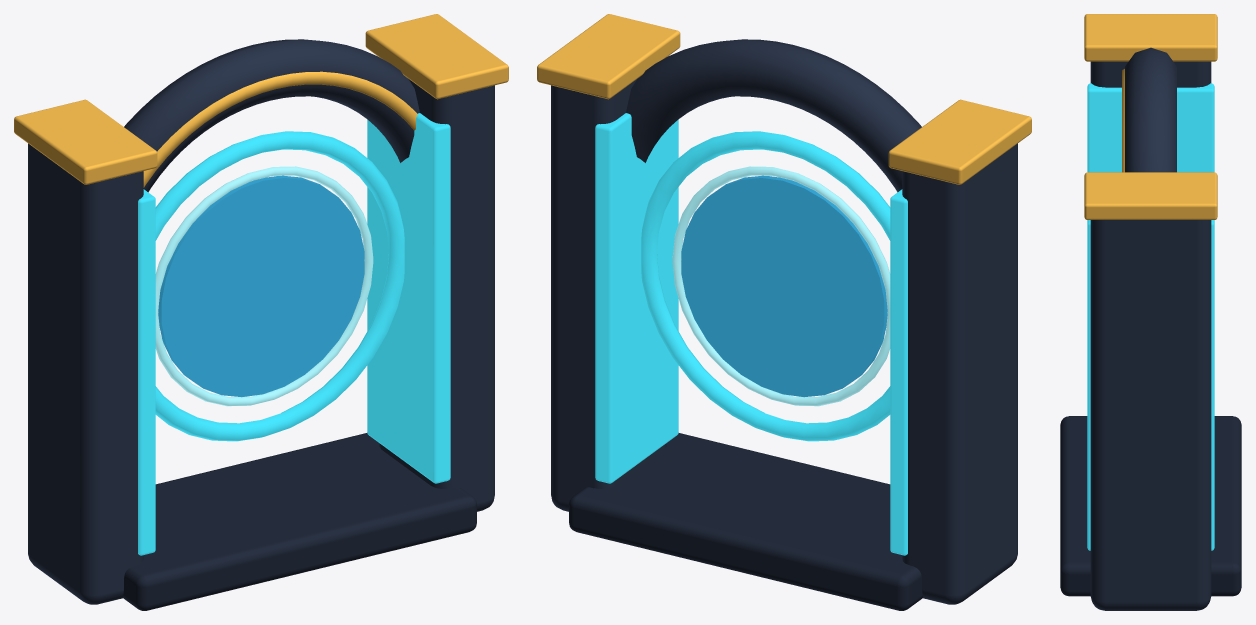
The model's file is entry_gate.glb.
3 renders of one model, left to right at view 1: azimuth 30°, elevation 25°; view 2: azimuth 150°, elevation 25°; view 3: azimuth 270°, elevation 25°, orthographic. The views are drawn at different scales.
Visible parts, largest first — view 1: rig_body, bob_glow, rig_glow, spin_glow, rig_metal; view 2: rig_body, bob_glow, rig_glow, spin_glow, rig_metal; view 3: rig_body, rig_metal, rig_glow.
Boxes of the visible parts, x1=… form: rig_body: x1=28, y1=39, x2=494, y2=610; bob_glow: x1=158, y1=175, x2=364, y2=397; rig_glow: x1=138, y1=113, x2=450, y2=555; spin_glow: x1=155, y1=131, x2=404, y2=441; rig_metal: x1=14, y1=14, x2=508, y2=187; rig_body: x1=551, y1=39, x2=1017, y2=610; bob_glow: x1=681, y1=175, x2=887, y2=397; rig_glow: x1=595, y1=113, x2=907, y2=555; spin_glow: x1=641, y1=131, x2=890, y2=441; rig_metal: x1=537, y1=14, x2=1031, y2=184; rig_body: x1=1060, y1=47, x2=1241, y2=610; rig_metal: x1=1084, y1=14, x2=1217, y2=219; rig_glow: x1=1087, y1=83, x2=1214, y2=550.
Bounding box in the file's own units: 1.5 × 1.66 × 0.6.
